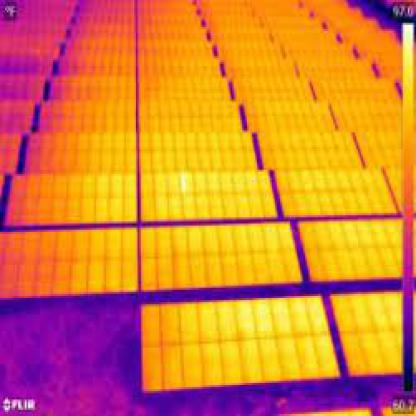Defects: (178, 170, 206, 215)
